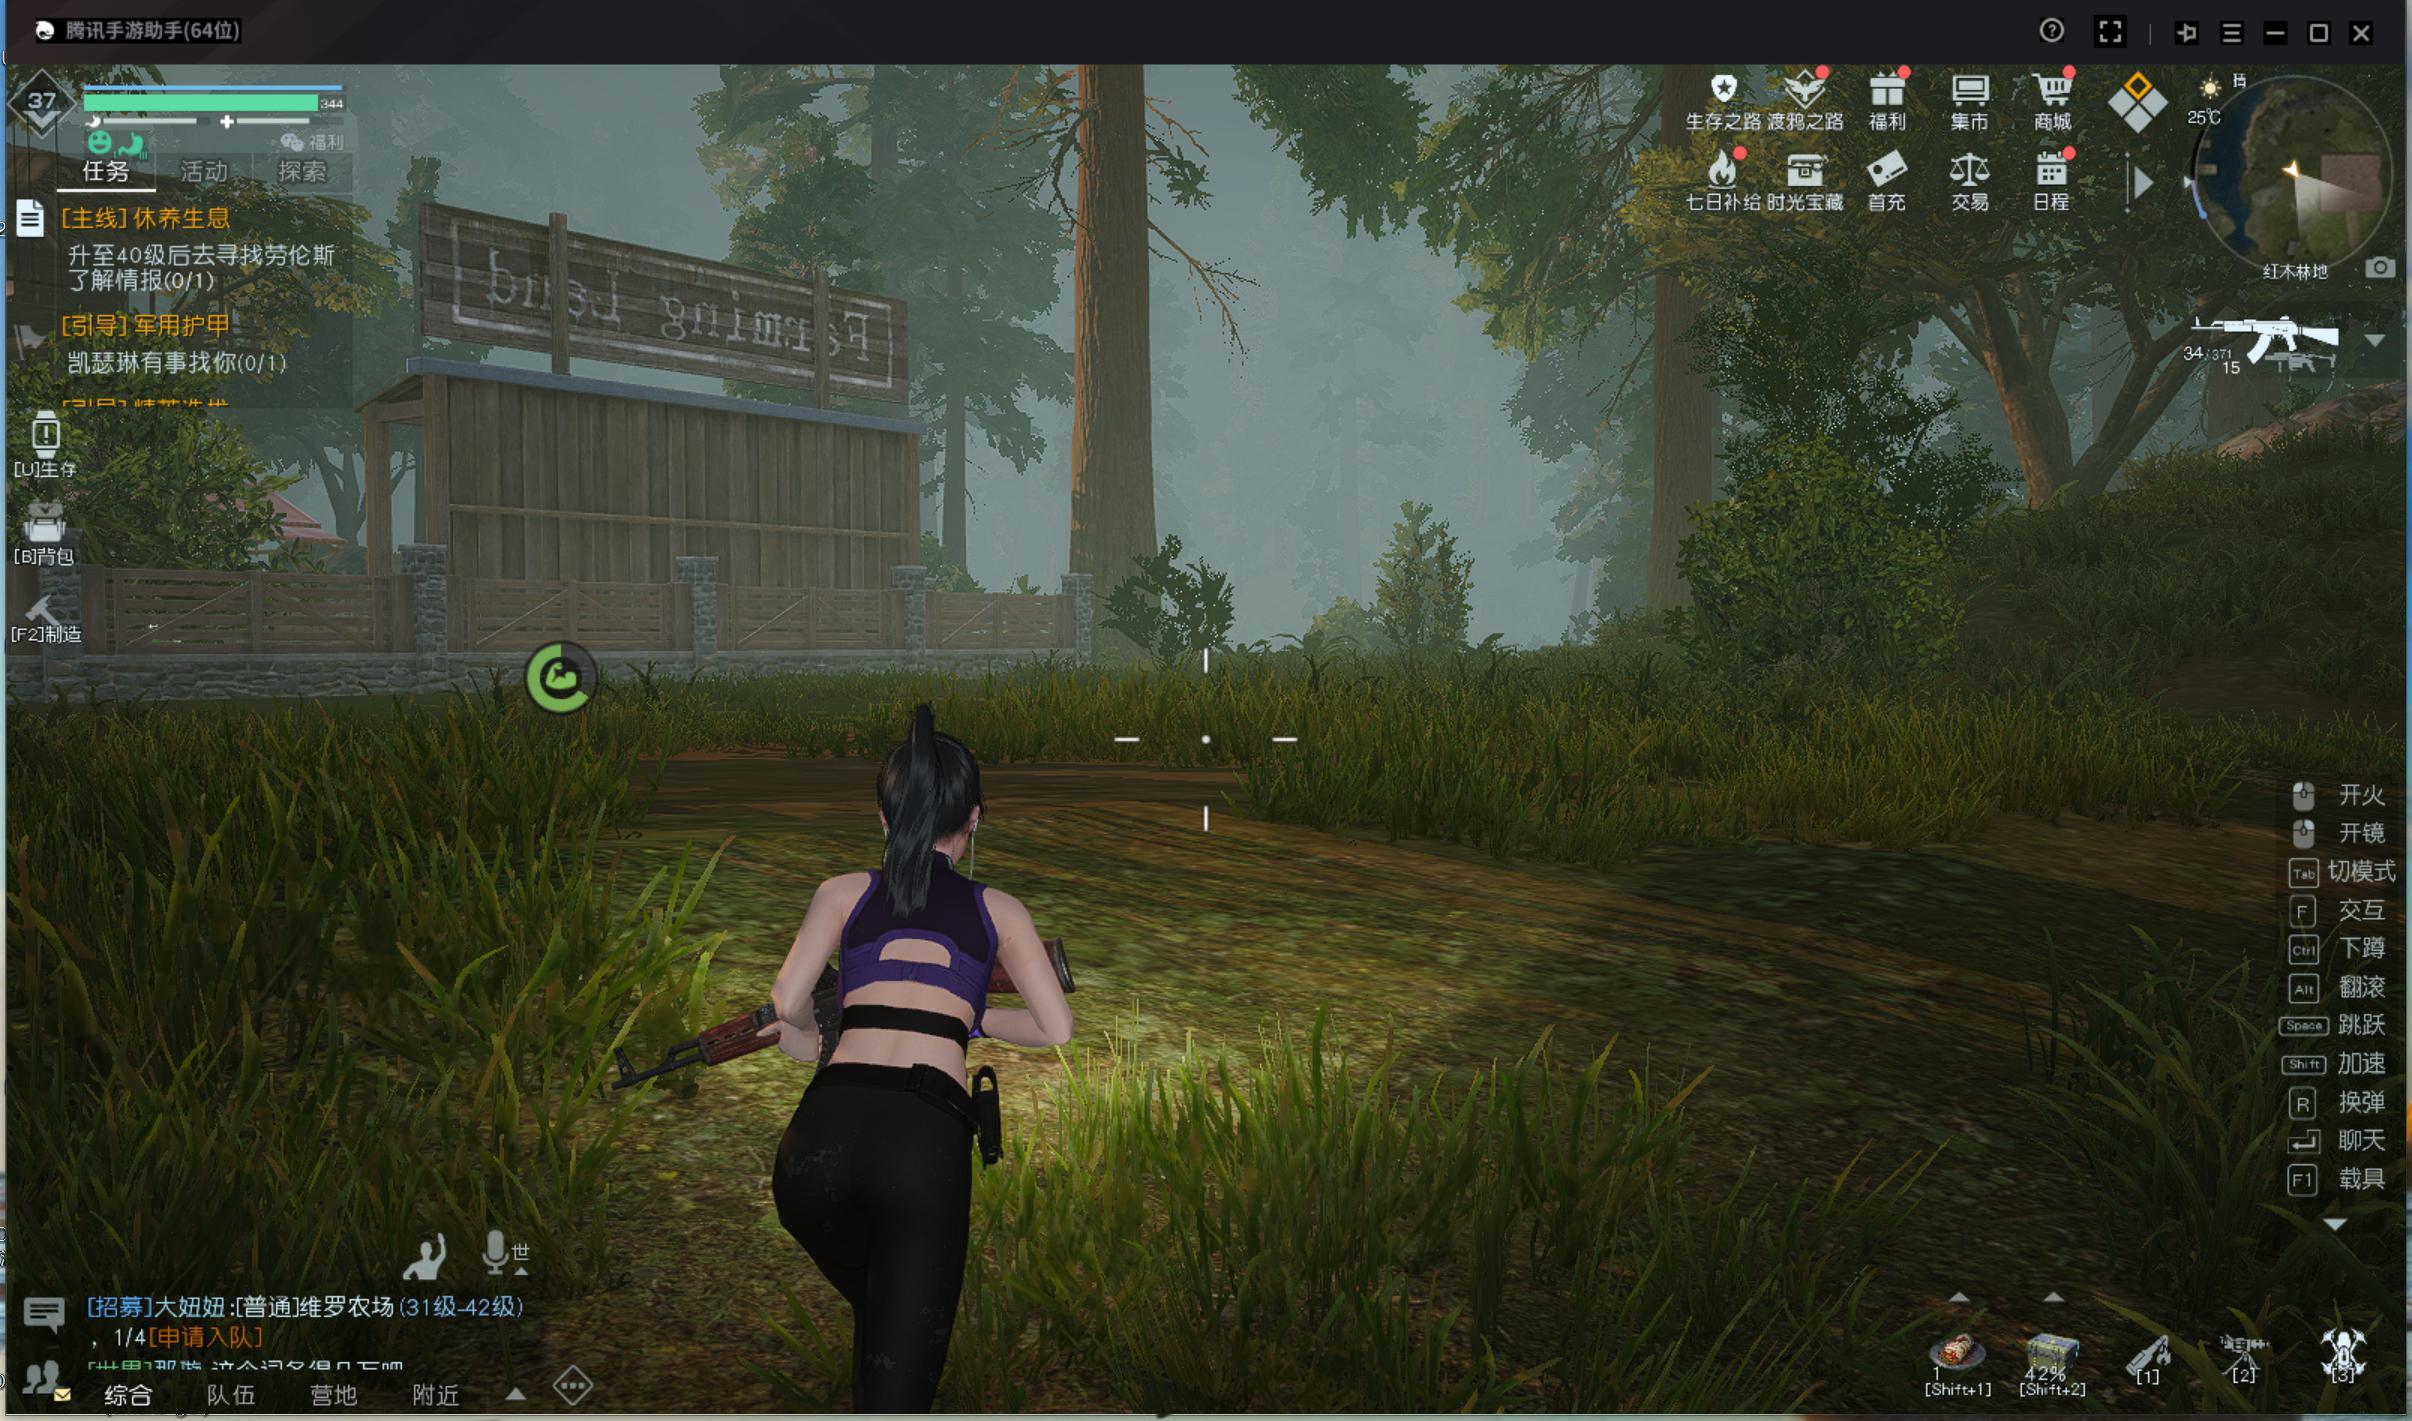tree: (1050, 85, 1170, 682), (1639, 200, 1722, 639)
